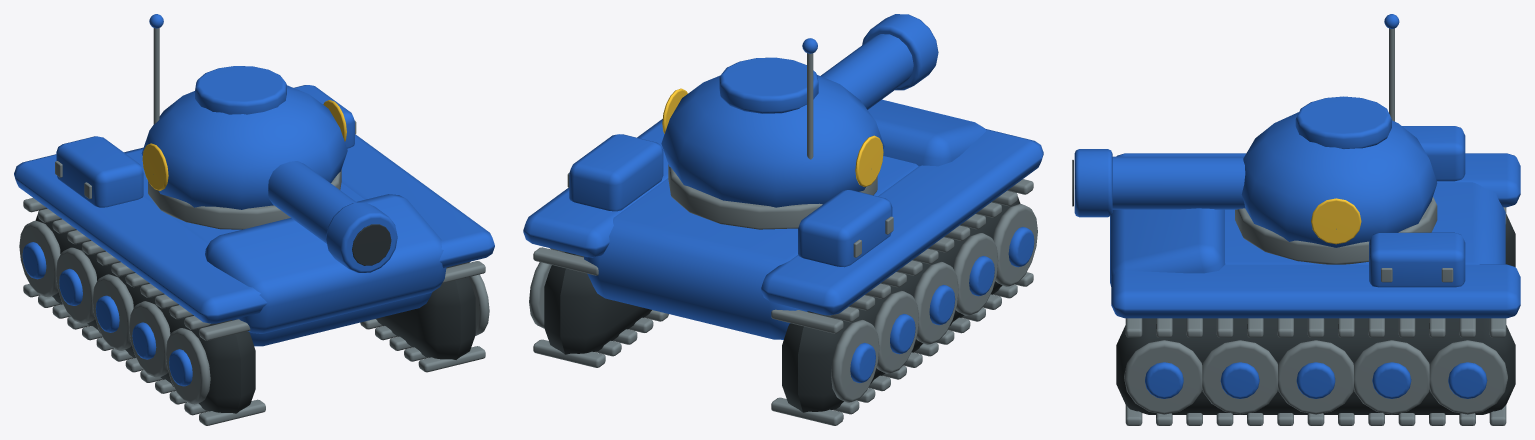
The model's file is COM-TANK-01.glb.
The picture shows the model from 3 angles, left to right: view 1: azimuth 30°, elevation 25°; view 2: azimuth 150°, elevation 25°; view 3: azimuth 270°, elevation 25°; orthographic projection. The views are drawn at different scales.
Visible parts, largest first — view 1: sloped glacis, cast turret, swept fender.001, swept fender, continuous belt.001, continuous belt, storage bin.001, cannon, cupola, hull, turret collar, muzzle ring (+19 smaller); view 2: hull, cast turret, swept fender.001, continuous belt.001, continuous belt, storage bin, storage bin.001, sloped glacis, swept fender, cupola, cannon, turret collar (+18 smaller); view 3: swept fender, cast turret, continuous belt, sloped glacis, cannon, hull, storage bin, cupola, road wheel, road wheel.004, road wheel.003, road wheel.001 (+13 smaller).
Part boxes in pixels (<box>): sloped glacis: <box>205,194,446,333</box>; cast turret: <box>141,85,347,209</box>; swept fender.001: <box>14,154,267,323</box>; swept fender: <box>341,134,494,268</box>; continuous belt.001: <box>35,210,255,413</box>; continuous belt: <box>376,265,475,359</box>; storage bin.001: <box>56,136,143,207</box>; cannon: <box>268,161,356,243</box>; cupola: <box>195,66,286,114</box>; hull: <box>124,147,432,346</box>; turret collar: <box>148,169,341,229</box>; muzzle ring: <box>326,202,397,272</box>; hull: <box>584,156,918,339</box>; cast turret: <box>661,75,884,207</box>; swept fender.001: <box>761,129,1043,315</box>; continuous belt.001: <box>782,192,1020,412</box>; continuous belt: <box>544,252,651,354</box>; storage bin: <box>569,134,663,211</box>; storage bin.001: <box>798,190,892,267</box>; sloped glacis: <box>868,99,985,166</box>; swept fender: <box>523,119,668,257</box>; cupola: <box>719,57,818,113</box>; cannon: <box>821,34,913,109</box>; turret collar: <box>668,164,877,229</box>; swept fender: <box>1111,264,1520,318</box>; cast turret: <box>1241,112,1437,247</box>; continuous belt: <box>1116,318,1515,414</box>; sloped glacis: <box>1110,208,1225,286</box>; cannon: <box>1112,156,1245,209</box>; hull: <box>1225,182,1505,264</box>; storage bin: <box>1369,232,1465,287</box>; cupola: <box>1295,96,1391,148</box>; road wheel: <box>1429,340,1507,414</box>; road wheel.004: <box>1124,340,1202,414</box>; road wheel.003: <box>1202,340,1277,414</box>; road wheel.001: <box>1354,340,1429,414</box>.
Bounding box in the file's own units: 1.43 × 1.37 × 1.77.
